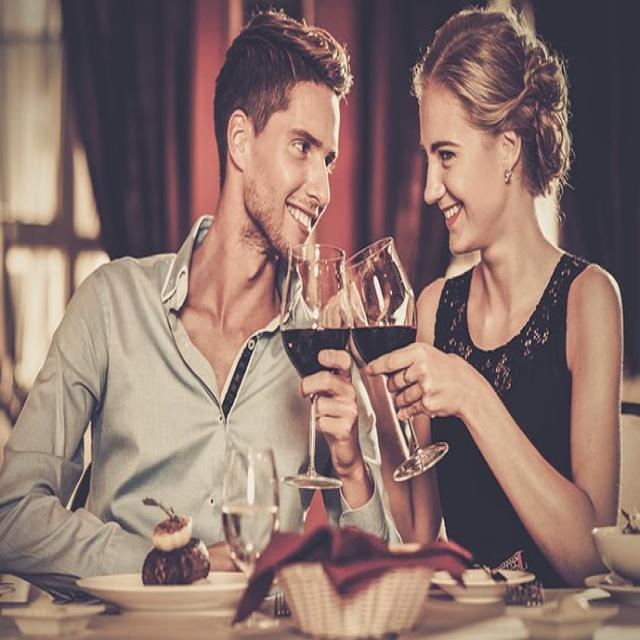eating-person: (0, 0, 351, 611), (351, 0, 640, 601)
